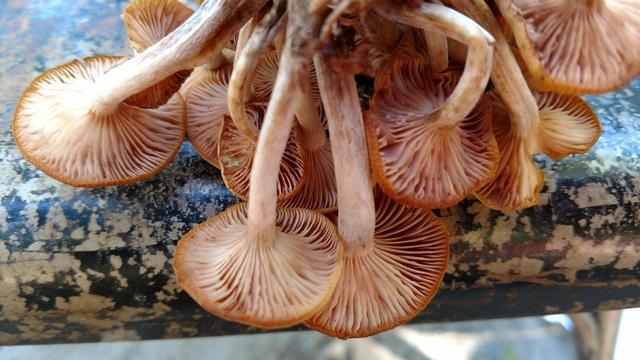Edible Mushroom: (11, 0, 637, 339)
